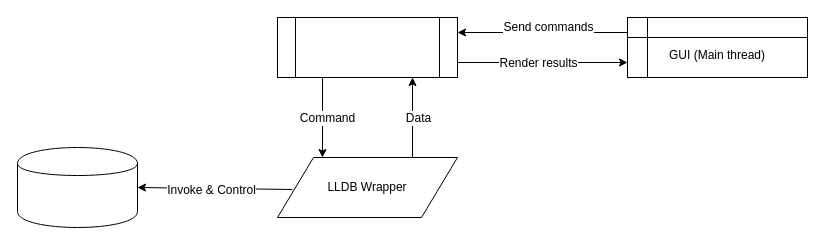
Image size: 825x245. Some labels were removed from this diagram. Here are the shapes that lost their labels. From the top down, the centre of each, then its label:
At pixel 367 47: "Application Processing Thread".
At pixel 77 187: "Target executable".
